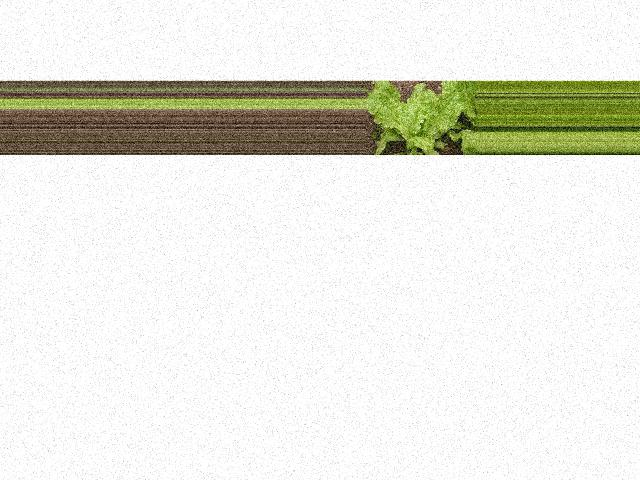lettuce: (366, 84, 477, 160)
